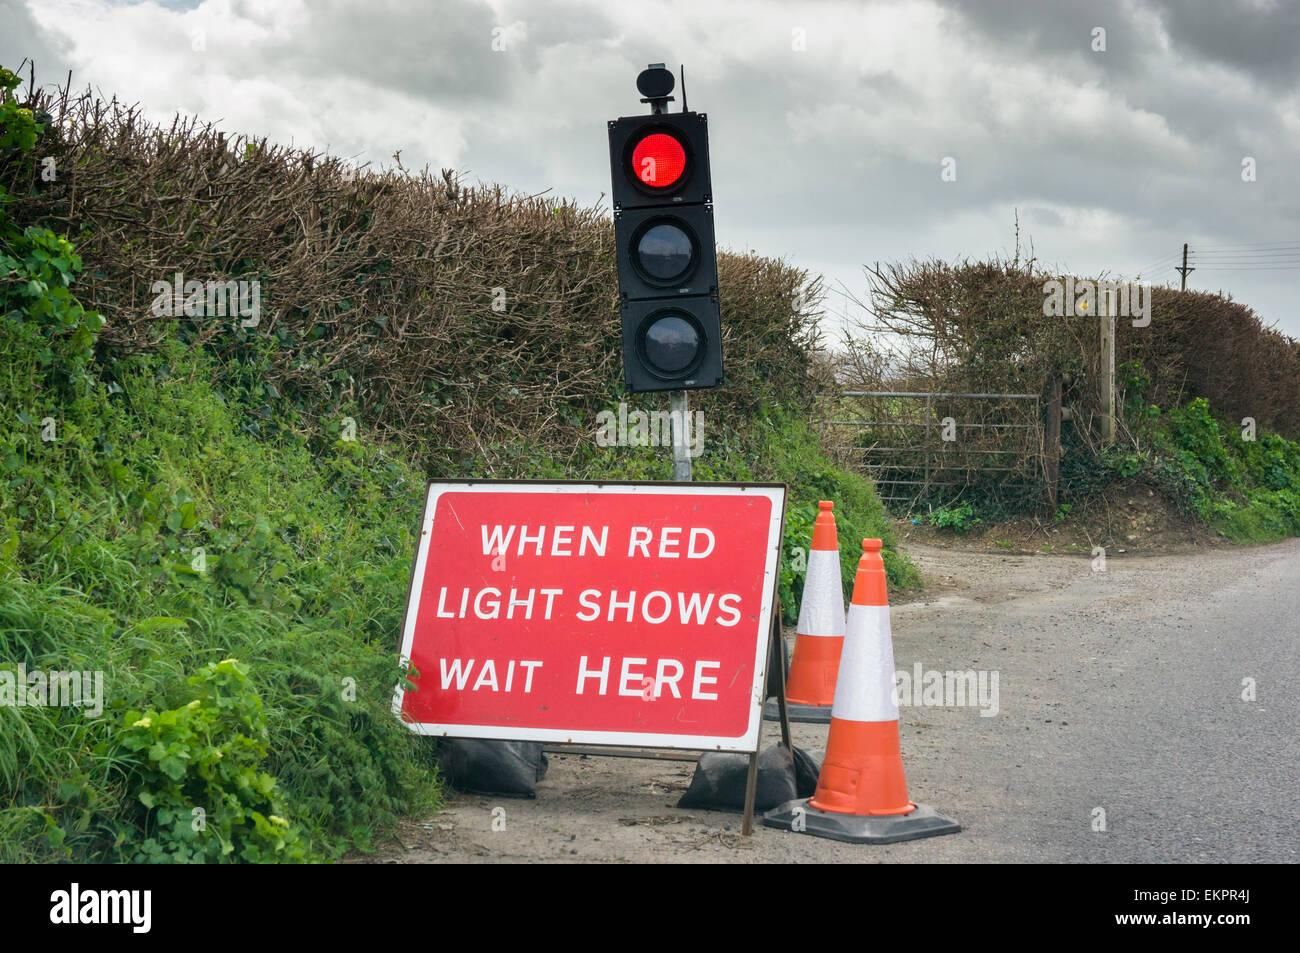traffic light: (565, 48, 800, 435)
traffic sign: (364, 429, 839, 791)
